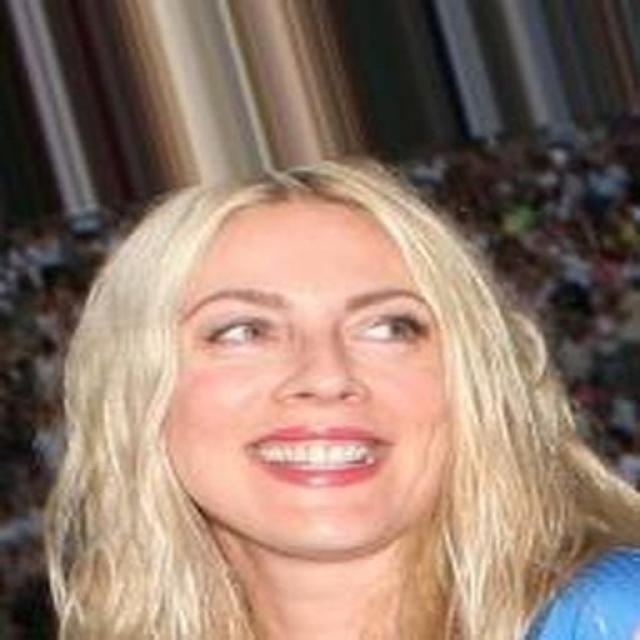bareface: (71, 180, 496, 556)
